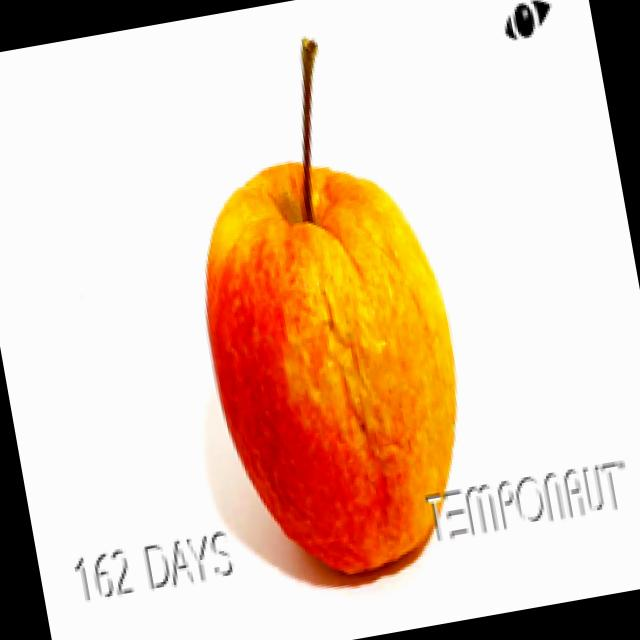Rotten_Apple: (149, 0, 496, 603)
